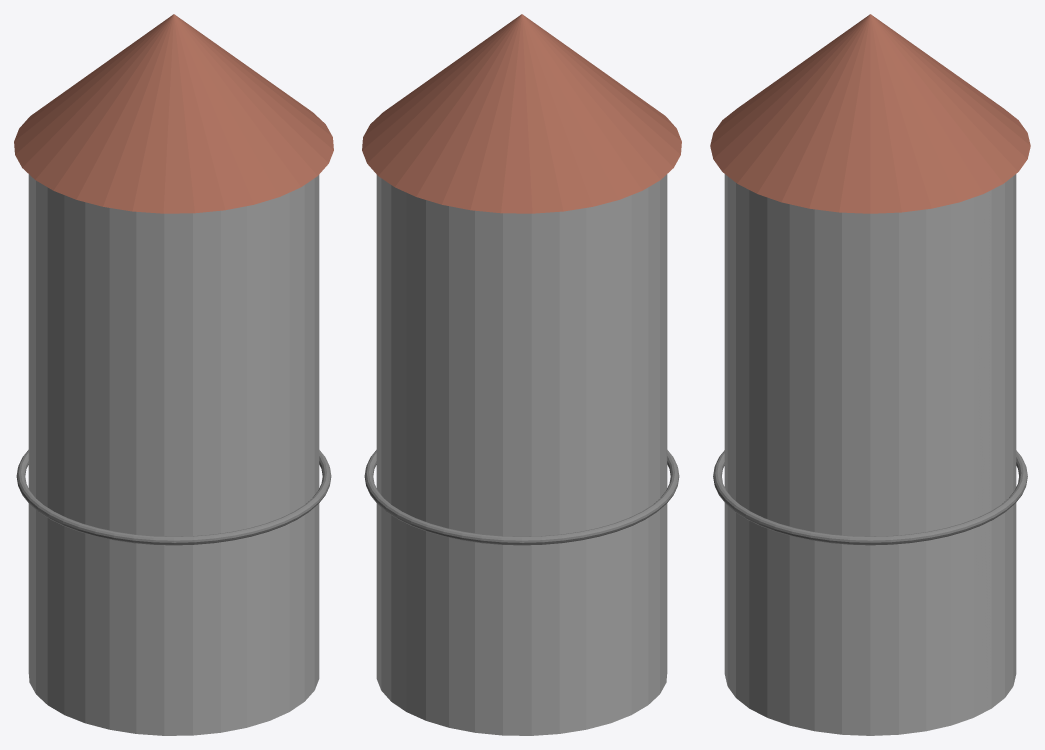
The model's file is silo.glb.
3 renders of one model, left to right at view 1: azimuth 30°, elevation 25°; view 2: azimuth 150°, elevation 25°; view 3: azimuth 270°, elevation 25°, orthographic.
Parts seen in each view (by area): view 1: Silo_Body, Silo_Roof, Silo_Band; view 2: Silo_Body, Silo_Roof, Silo_Band; view 3: Silo_Body, Silo_Roof, Silo_Band.
Boxes of the visible parts, x1,y1,x2,y2 form: Silo_Body: (28, 174, 319, 735); Silo_Roof: (14, 14, 333, 213); Silo_Band: (16, 450, 331, 545); Silo_Body: (376, 174, 667, 735); Silo_Roof: (362, 14, 681, 213); Silo_Band: (364, 450, 679, 545); Silo_Body: (724, 174, 1016, 735); Silo_Roof: (710, 14, 1030, 213); Silo_Band: (713, 450, 1027, 545).
Size of the model in its own units: 4.4 by 10 by 4.4.
